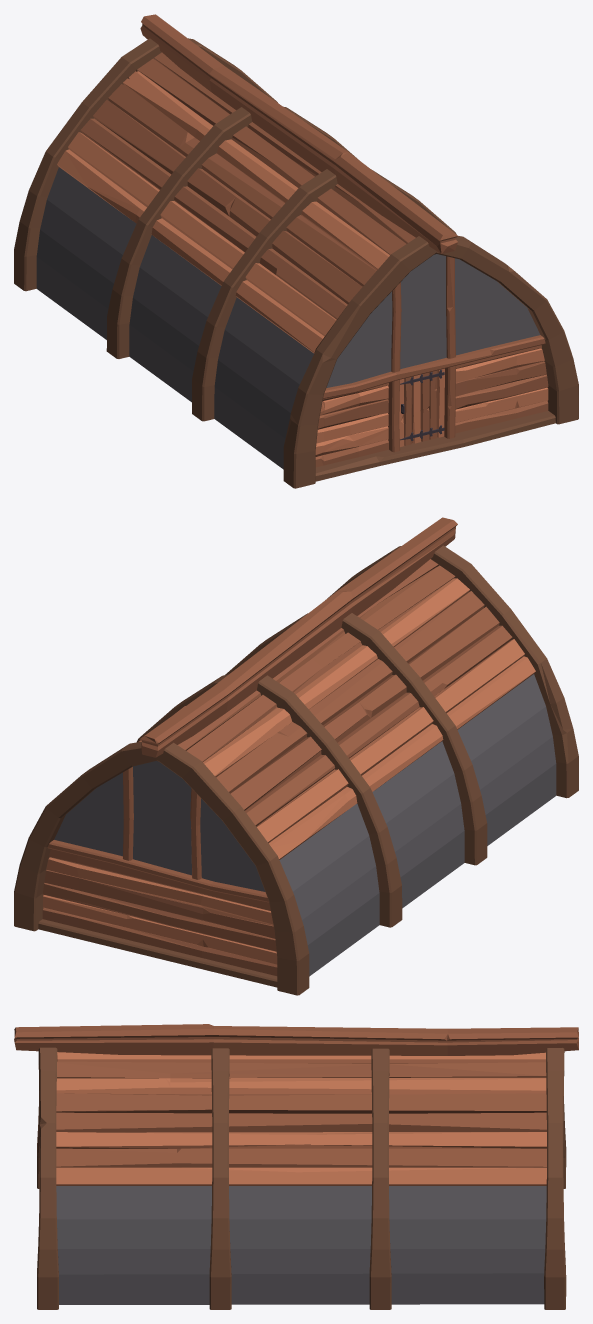
Rendered from Building_1_Wall_Off.fbx.
3 renders of one model, top to bottom at view 1: azimuth 30°, elevation 25°; view 2: azimuth 150°, elevation 25°; view 3: azimuth 270°, elevation 25°, orthographic. The views are drawn at different scales.
Parts seen in each view (by area): view 1: Building_1_Wall_Off; view 2: Building_1_Wall_Off; view 3: Building_1_Wall_Off.
Boxes of the visible parts, x1,y1,x2,y2 form: Building_1_Wall_Off: (14, 14, 578, 488); Building_1_Wall_Off: (14, 517, 578, 995); Building_1_Wall_Off: (14, 1024, 578, 1309).
Size of the model in its own units: 8.76 by 6.81 by 15.97.
